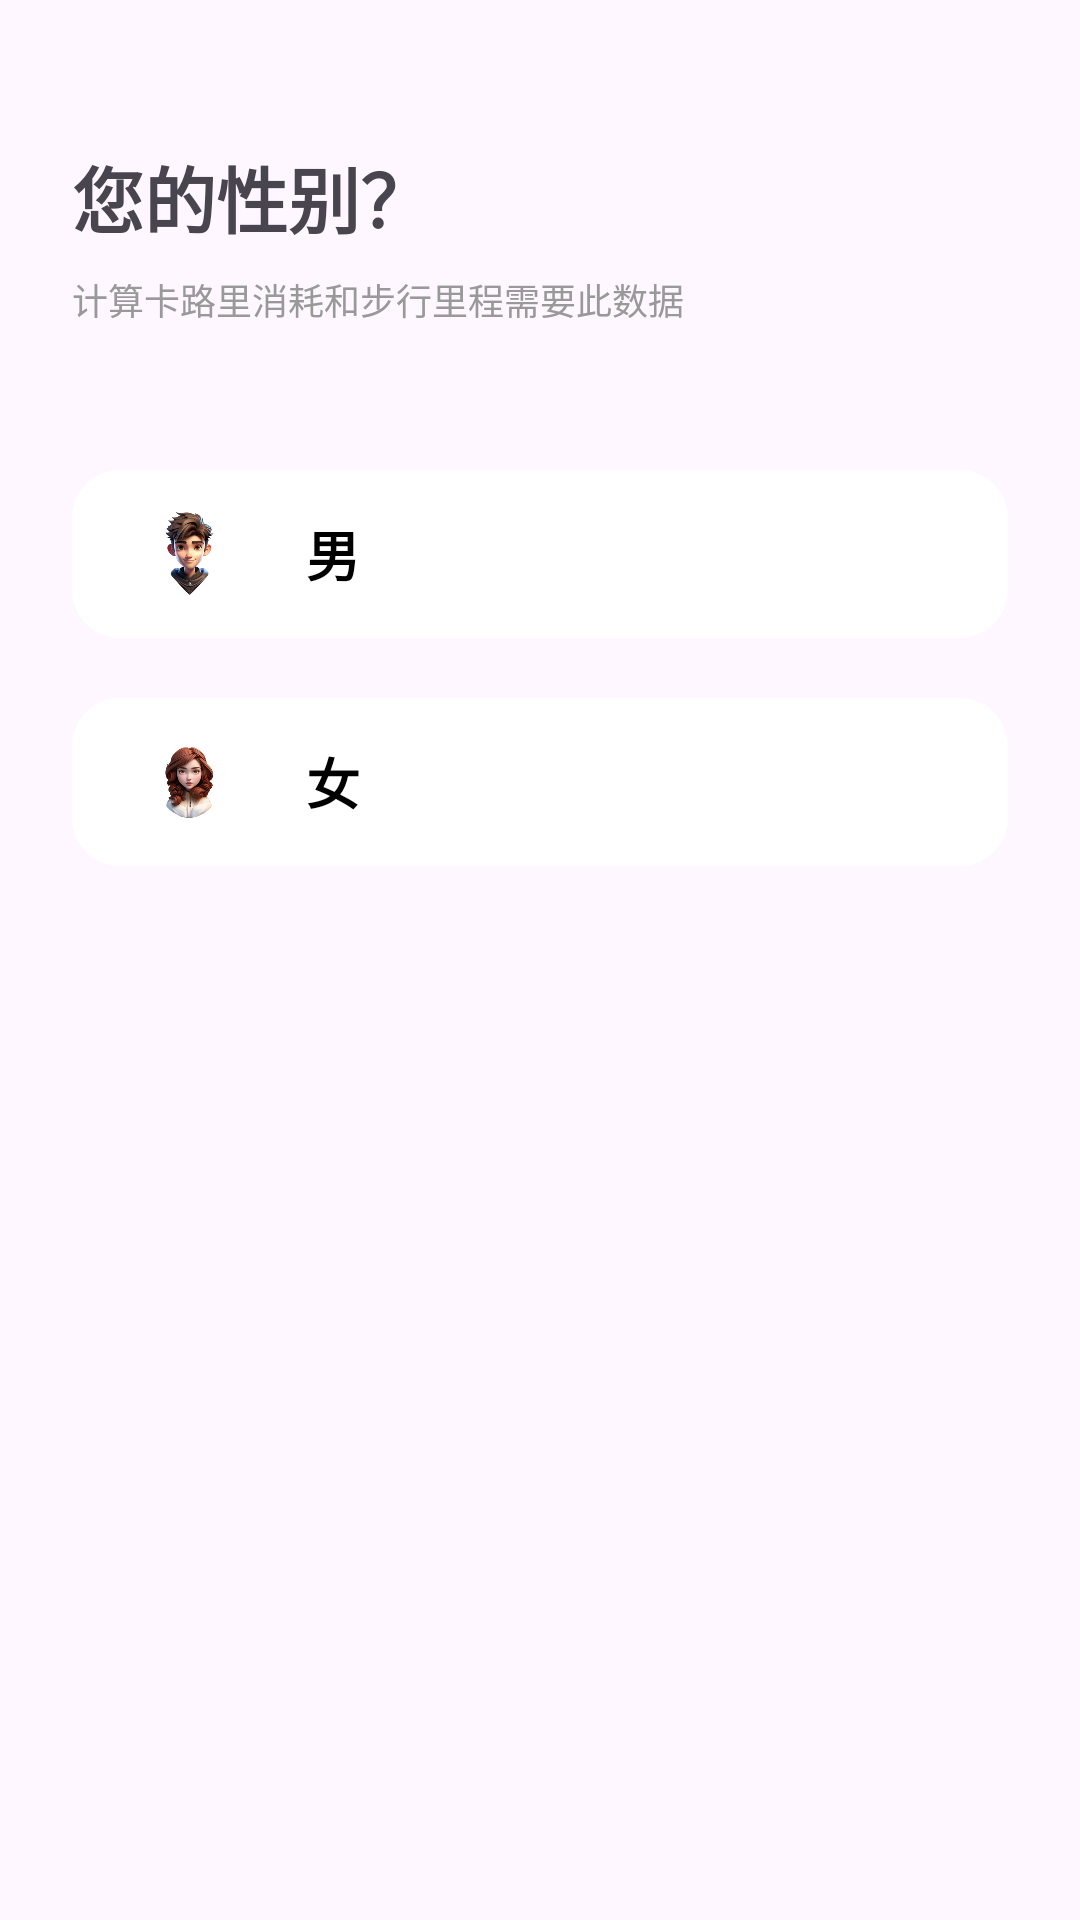

Icon bounding boxes for this 1080*1920 phone screenshot, format (x1, y1, x2, y2):
gender man: (166, 512, 214, 595)
gender woman: (165, 747, 213, 818)
